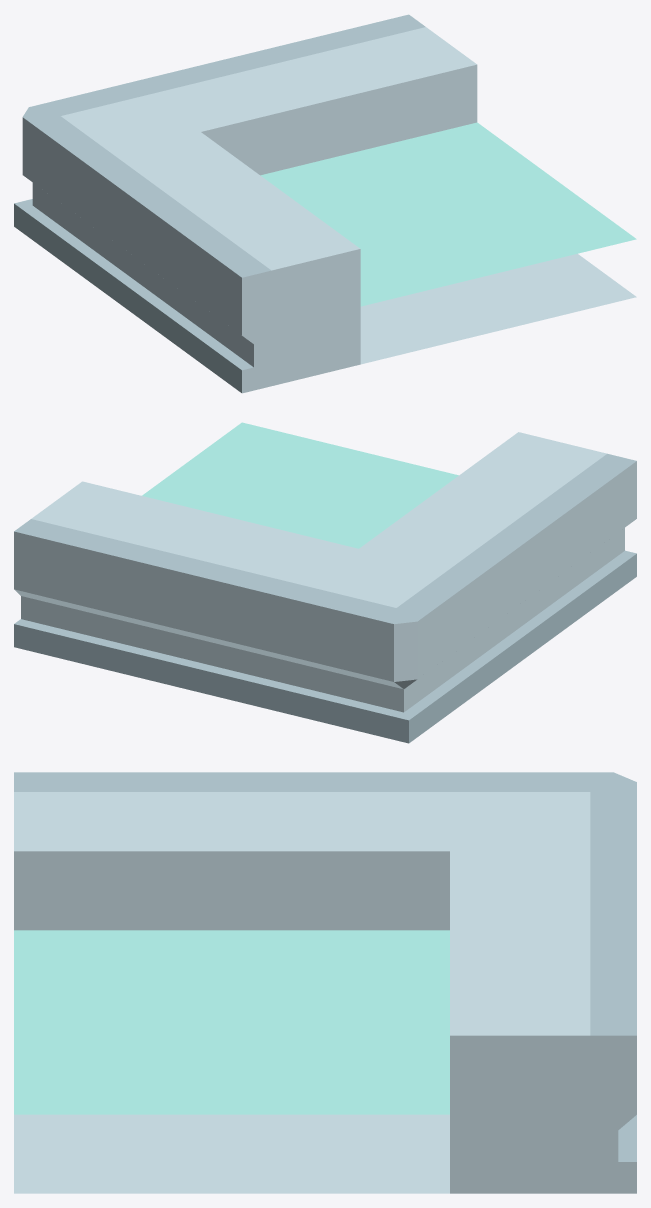
The model's file is fountainCorner.fbx.
The picture shows the model from 3 angles, top to bottom: view 1: azimuth 30°, elevation 25°; view 2: azimuth 150°, elevation 25°; view 3: azimuth 270°, elevation 25°; orthographic projection. The views are drawn at different scales.
Visible parts, largest first — view 1: fountainCorner, fountainCorner.001; view 2: fountainCorner, fountainCorner.001; view 3: fountainCorner, fountainCorner.001.
Boxes of the visible parts, box(x1,y1,x2,y2) form: fountainCorner: box(14, 14, 636, 393); fountainCorner.001: box(260, 122, 636, 306); fountainCorner: box(14, 432, 636, 743); fountainCorner.001: box(142, 422, 458, 548); fountainCorner: box(14, 772, 636, 1193); fountainCorner.001: box(14, 930, 449, 1114).
Bounding box in the file's own units: 100 × 28 × 100.
